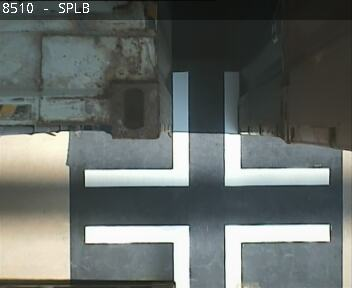groundmarker_1: (83, 71, 329, 187), (86, 223, 329, 287)
